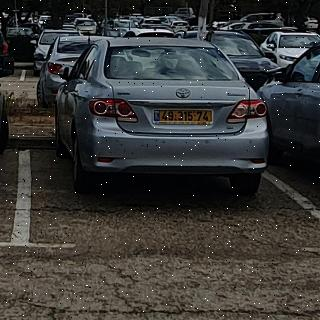LicensePlate: (160, 111, 210, 121)
